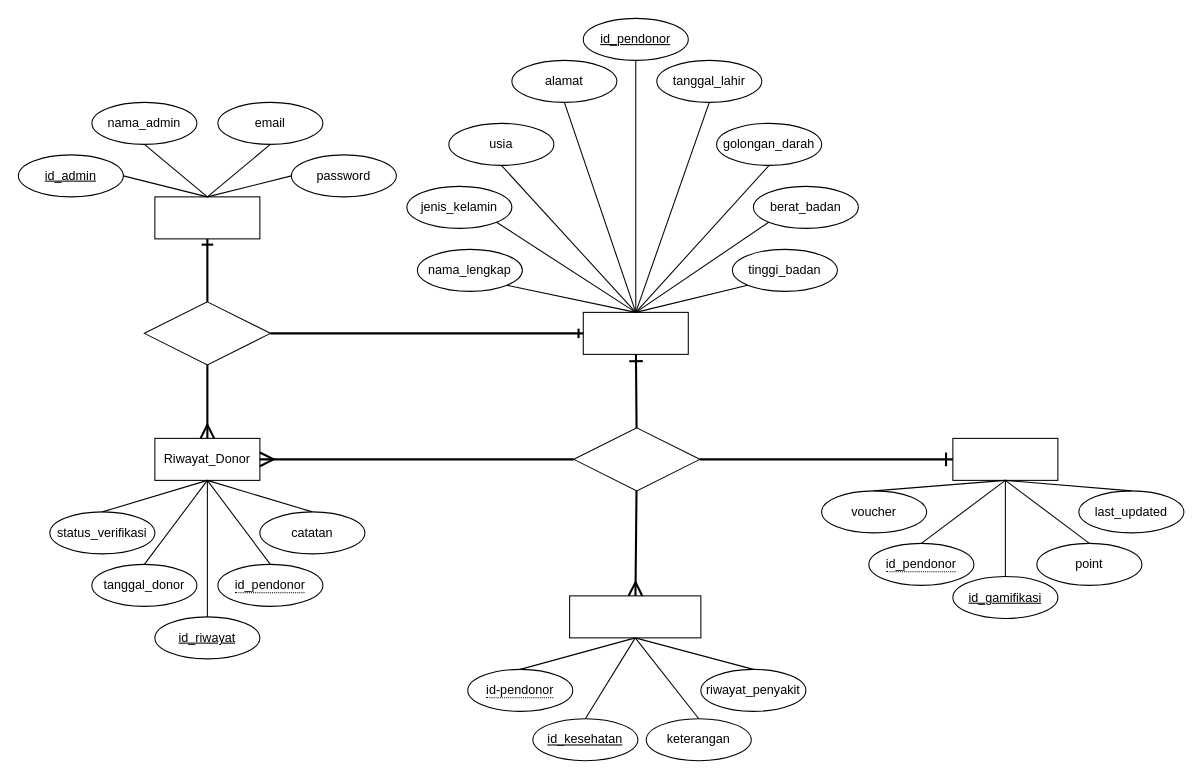
Image size: 1202x779. Some labels were removed from this diagram. Each missing label, with the centre of its shape:
"Admin" belongs at point 207,217.
"Gamifikasi" belongs at point 1005,458.
"Memiliki" belongs at point 636,459.
"Memverifikasi" belongs at point 206,333.
"Pendonor" belongs at point 635,332.
"Riwayat_Kesehatan" belongs at point 635,616.
